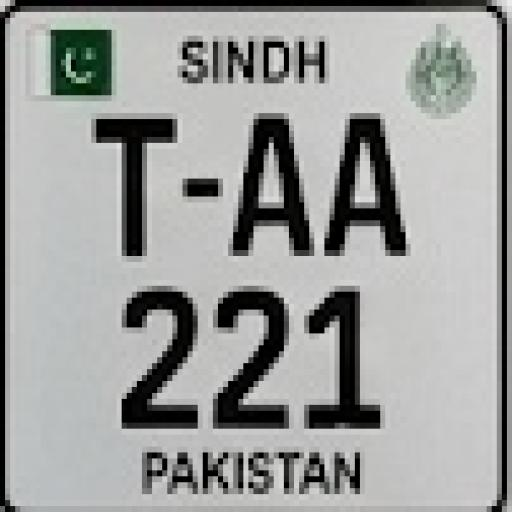1: (303, 273, 383, 437)
2: (106, 286, 207, 437), (210, 281, 292, 435)
A: (327, 104, 421, 260), (226, 105, 314, 267)
T: (86, 108, 182, 268)
